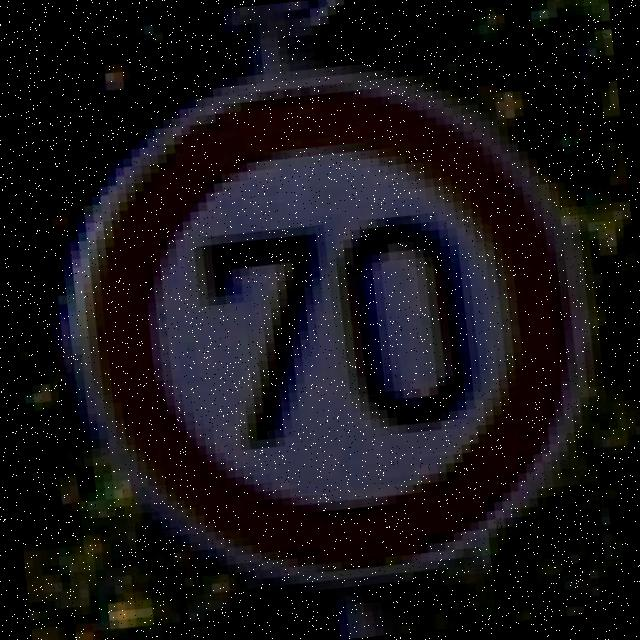Ograniczenie predkosci do 70: (50, 48, 606, 607)
